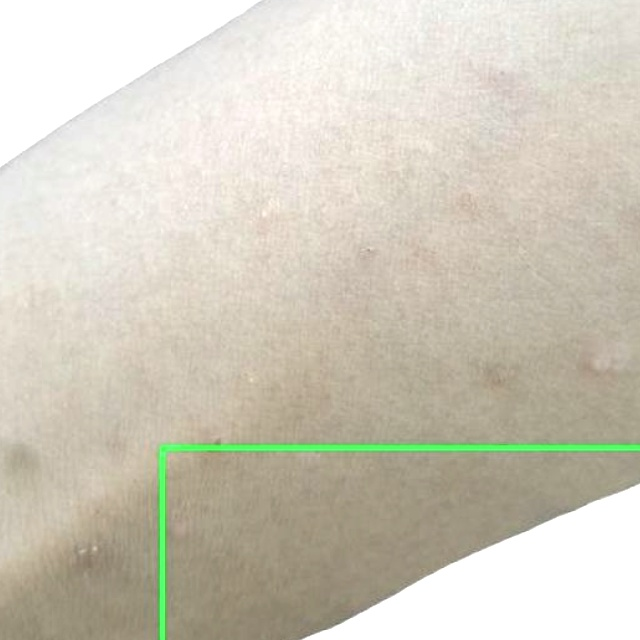Scabies: (162, 447, 639, 639)
